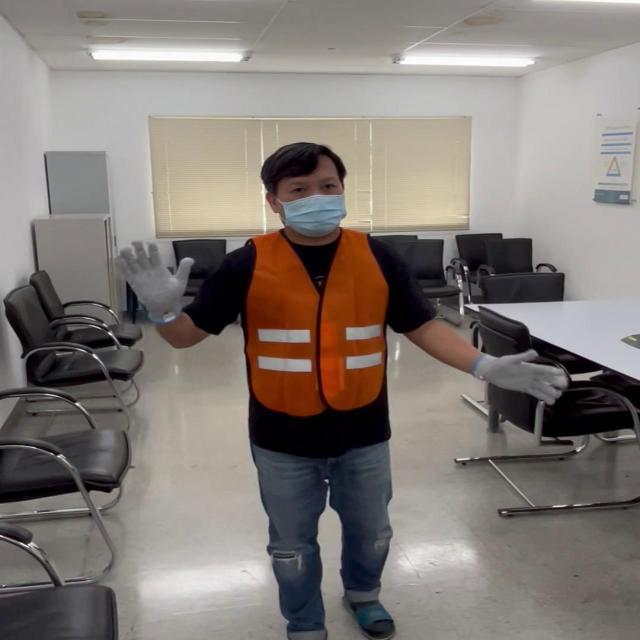gloved_hand: (120, 240, 193, 326), (477, 345, 561, 408)
